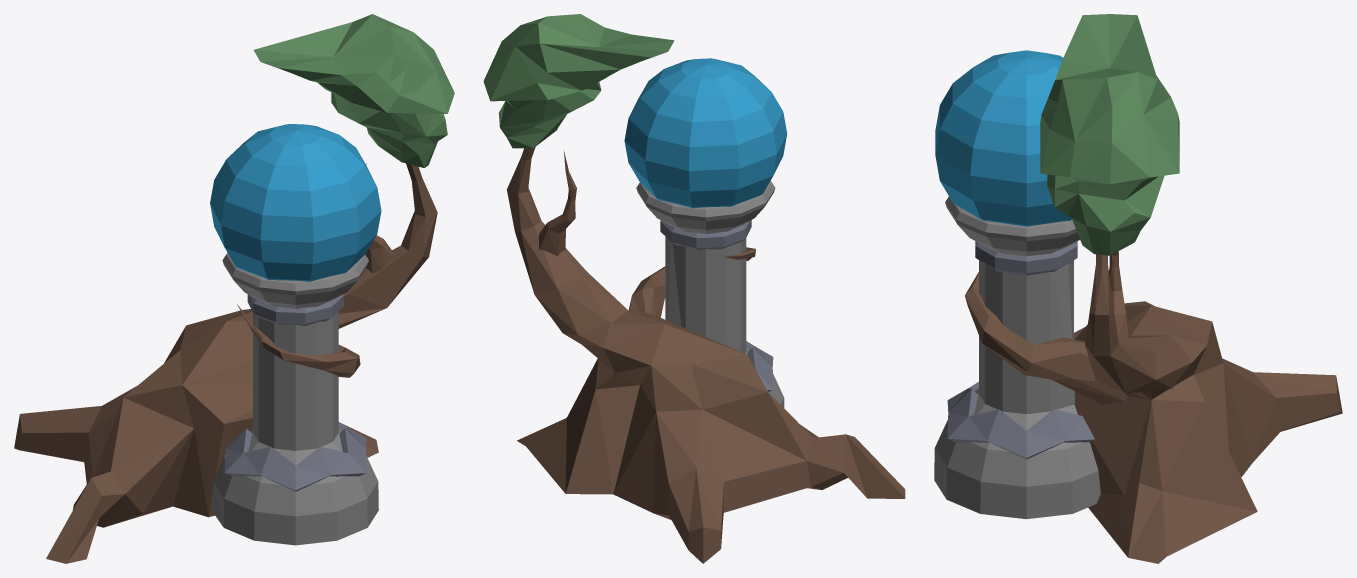
Rendered from _sculpture_2.fbx.
3 renders of one model, left to right at view 1: azimuth 30°, elevation 25°; view 2: azimuth 150°, elevation 25°; view 3: azimuth 270°, elevation 25°, orthographic. The views are drawn at different scales.
Visible parts, largest first — view 1: sculpture_2; view 2: sculpture_2; view 3: sculpture_2.
Part boxes in pixels (bbox=[...]): sculpture_2: bbox=[14, 14, 454, 563]; sculpture_2: bbox=[483, 14, 905, 563]; sculpture_2: bbox=[934, 14, 1342, 563].
Size of the model in its own units: 179 by 179 by 137.
